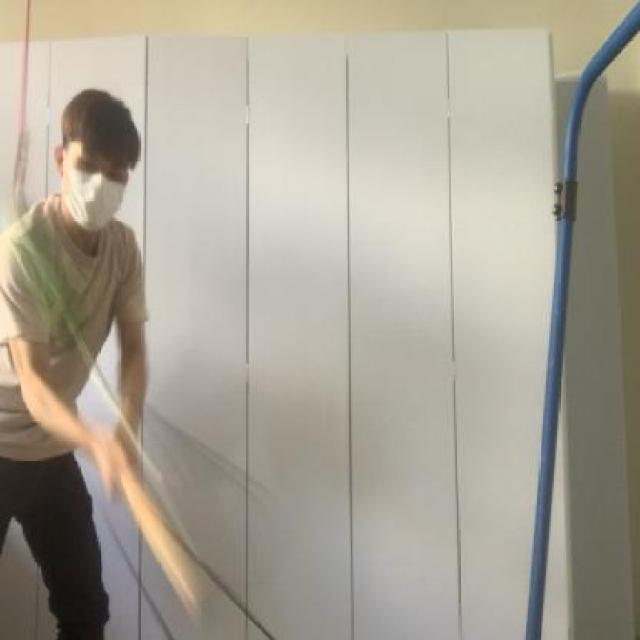baseball: (0, 189, 91, 343)
